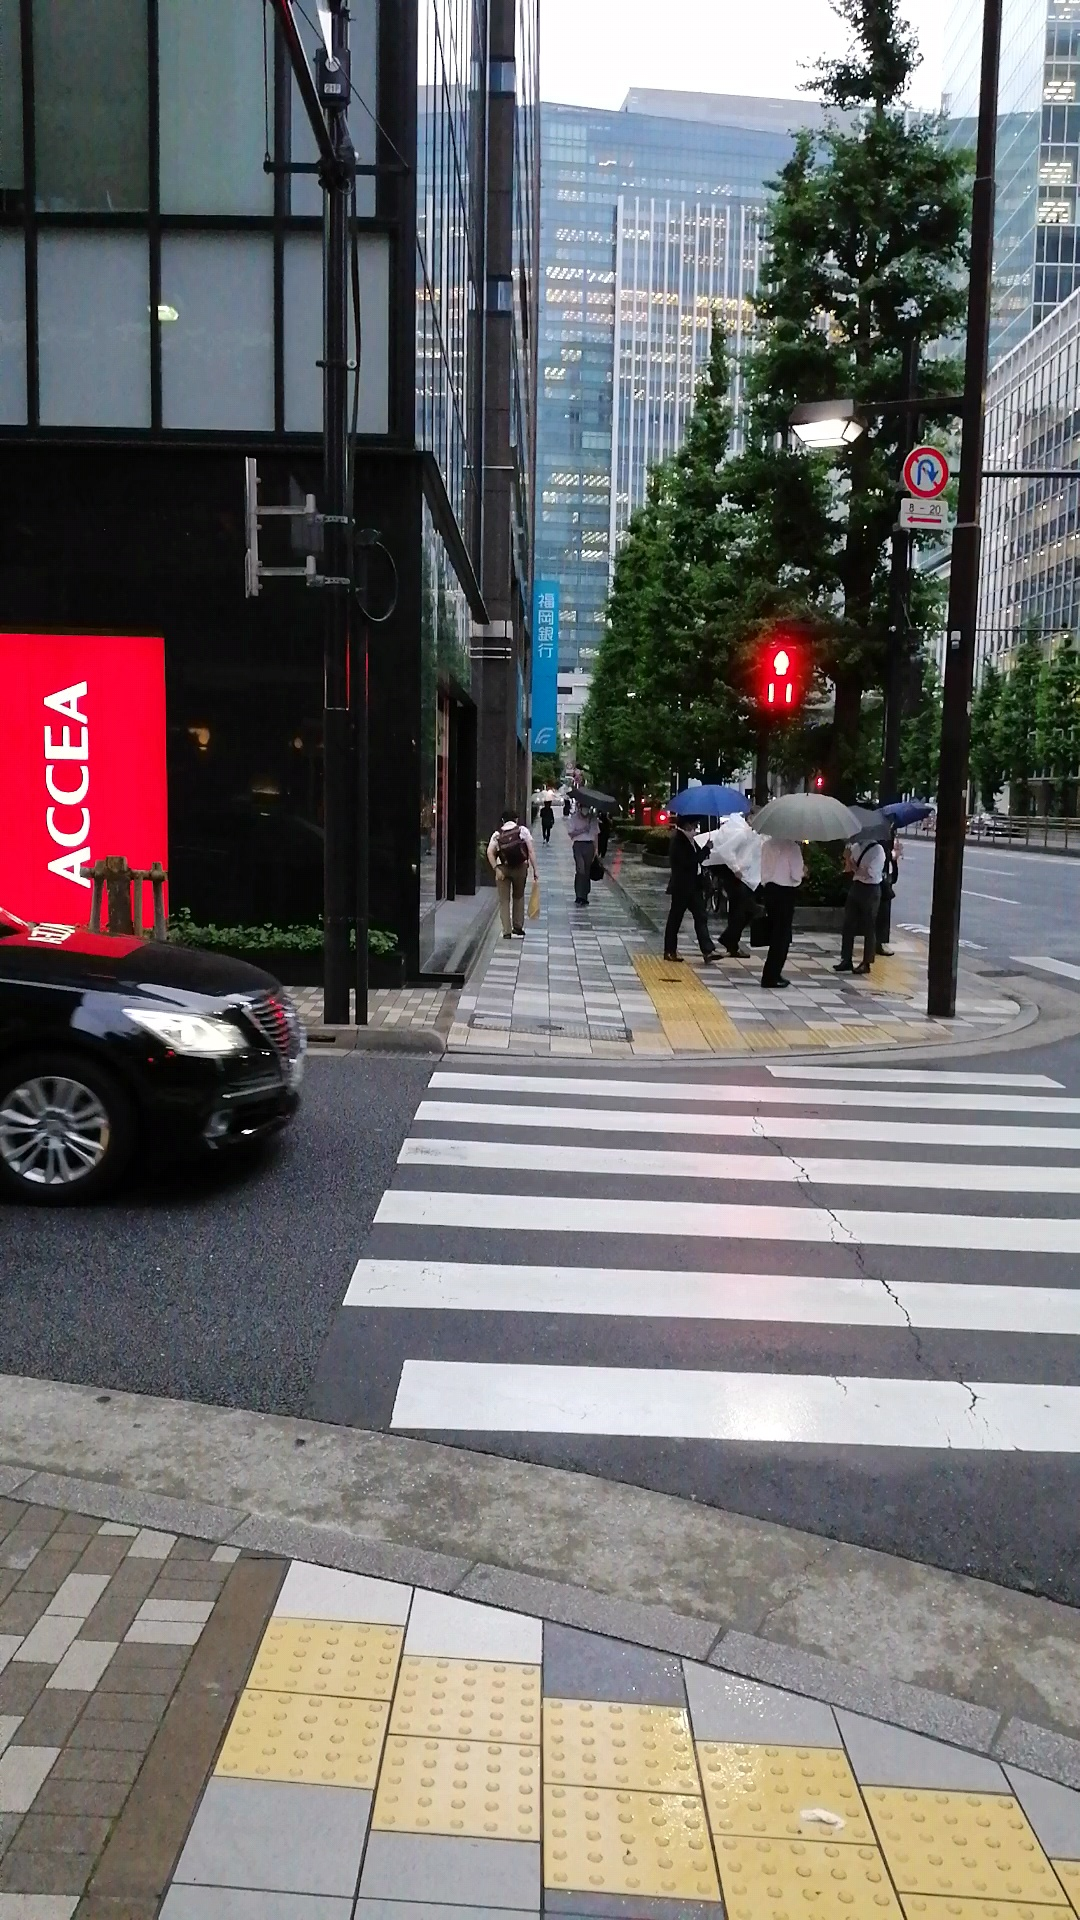red: (760, 644, 800, 712)
